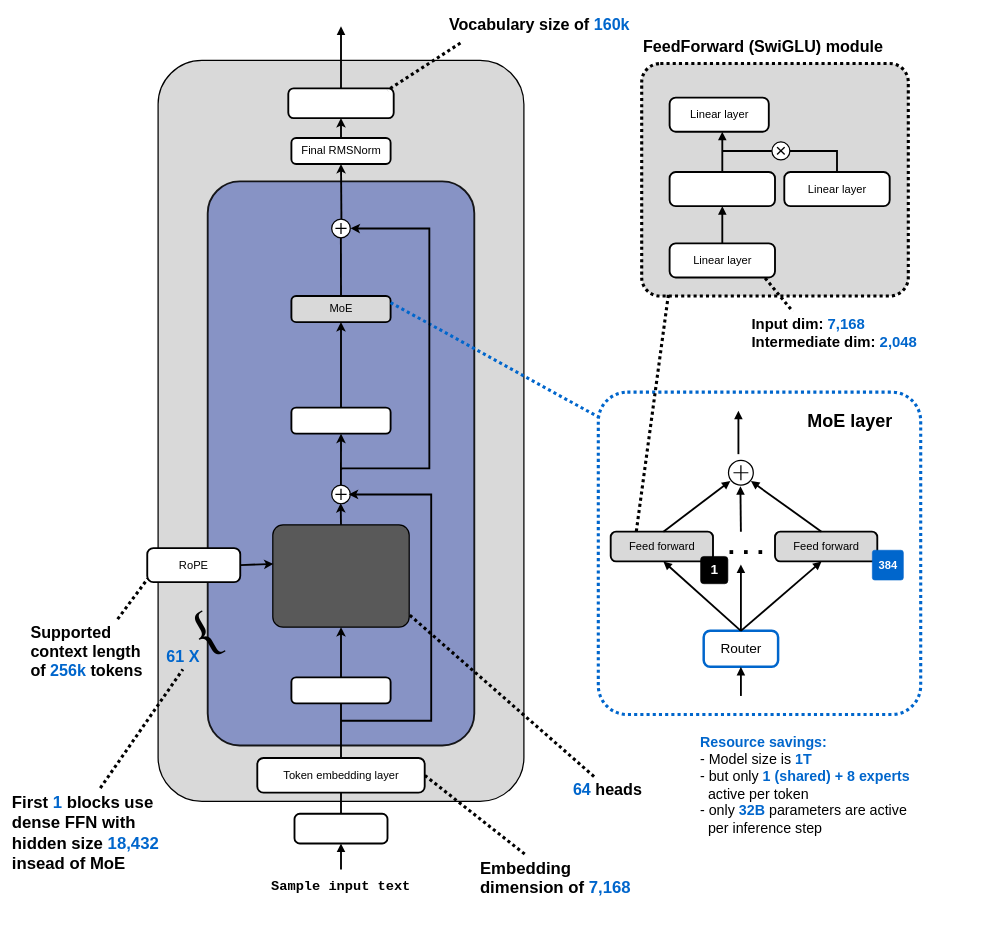
Image size: 993x929. Some labels were removed from this diagram. Each missing label, with the box of its shape:
Linear output layer: (287, 87, 394, 119)
Multi-head Latent Attention: (272, 524, 410, 627)
RMSNorm 1: (290, 676, 391, 704)
RMSNorm 2: (290, 406, 391, 434)
SiLU activation: (668, 171, 776, 207)
Tokenized text: (293, 813, 388, 844)
